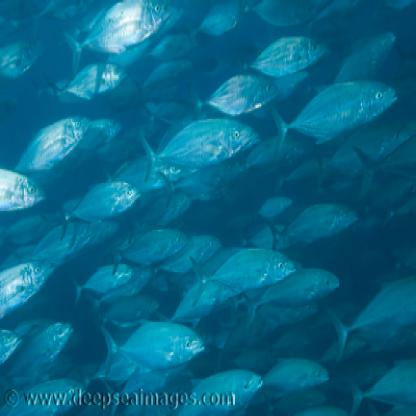Carangidae -Jacks-: (273, 75, 402, 180), (133, 114, 263, 197), (91, 320, 211, 384), (190, 239, 296, 306), (10, 103, 96, 179), (104, 219, 191, 291), (234, 34, 334, 84), (183, 367, 268, 415), (1, 262, 62, 310), (1, 169, 46, 211)
